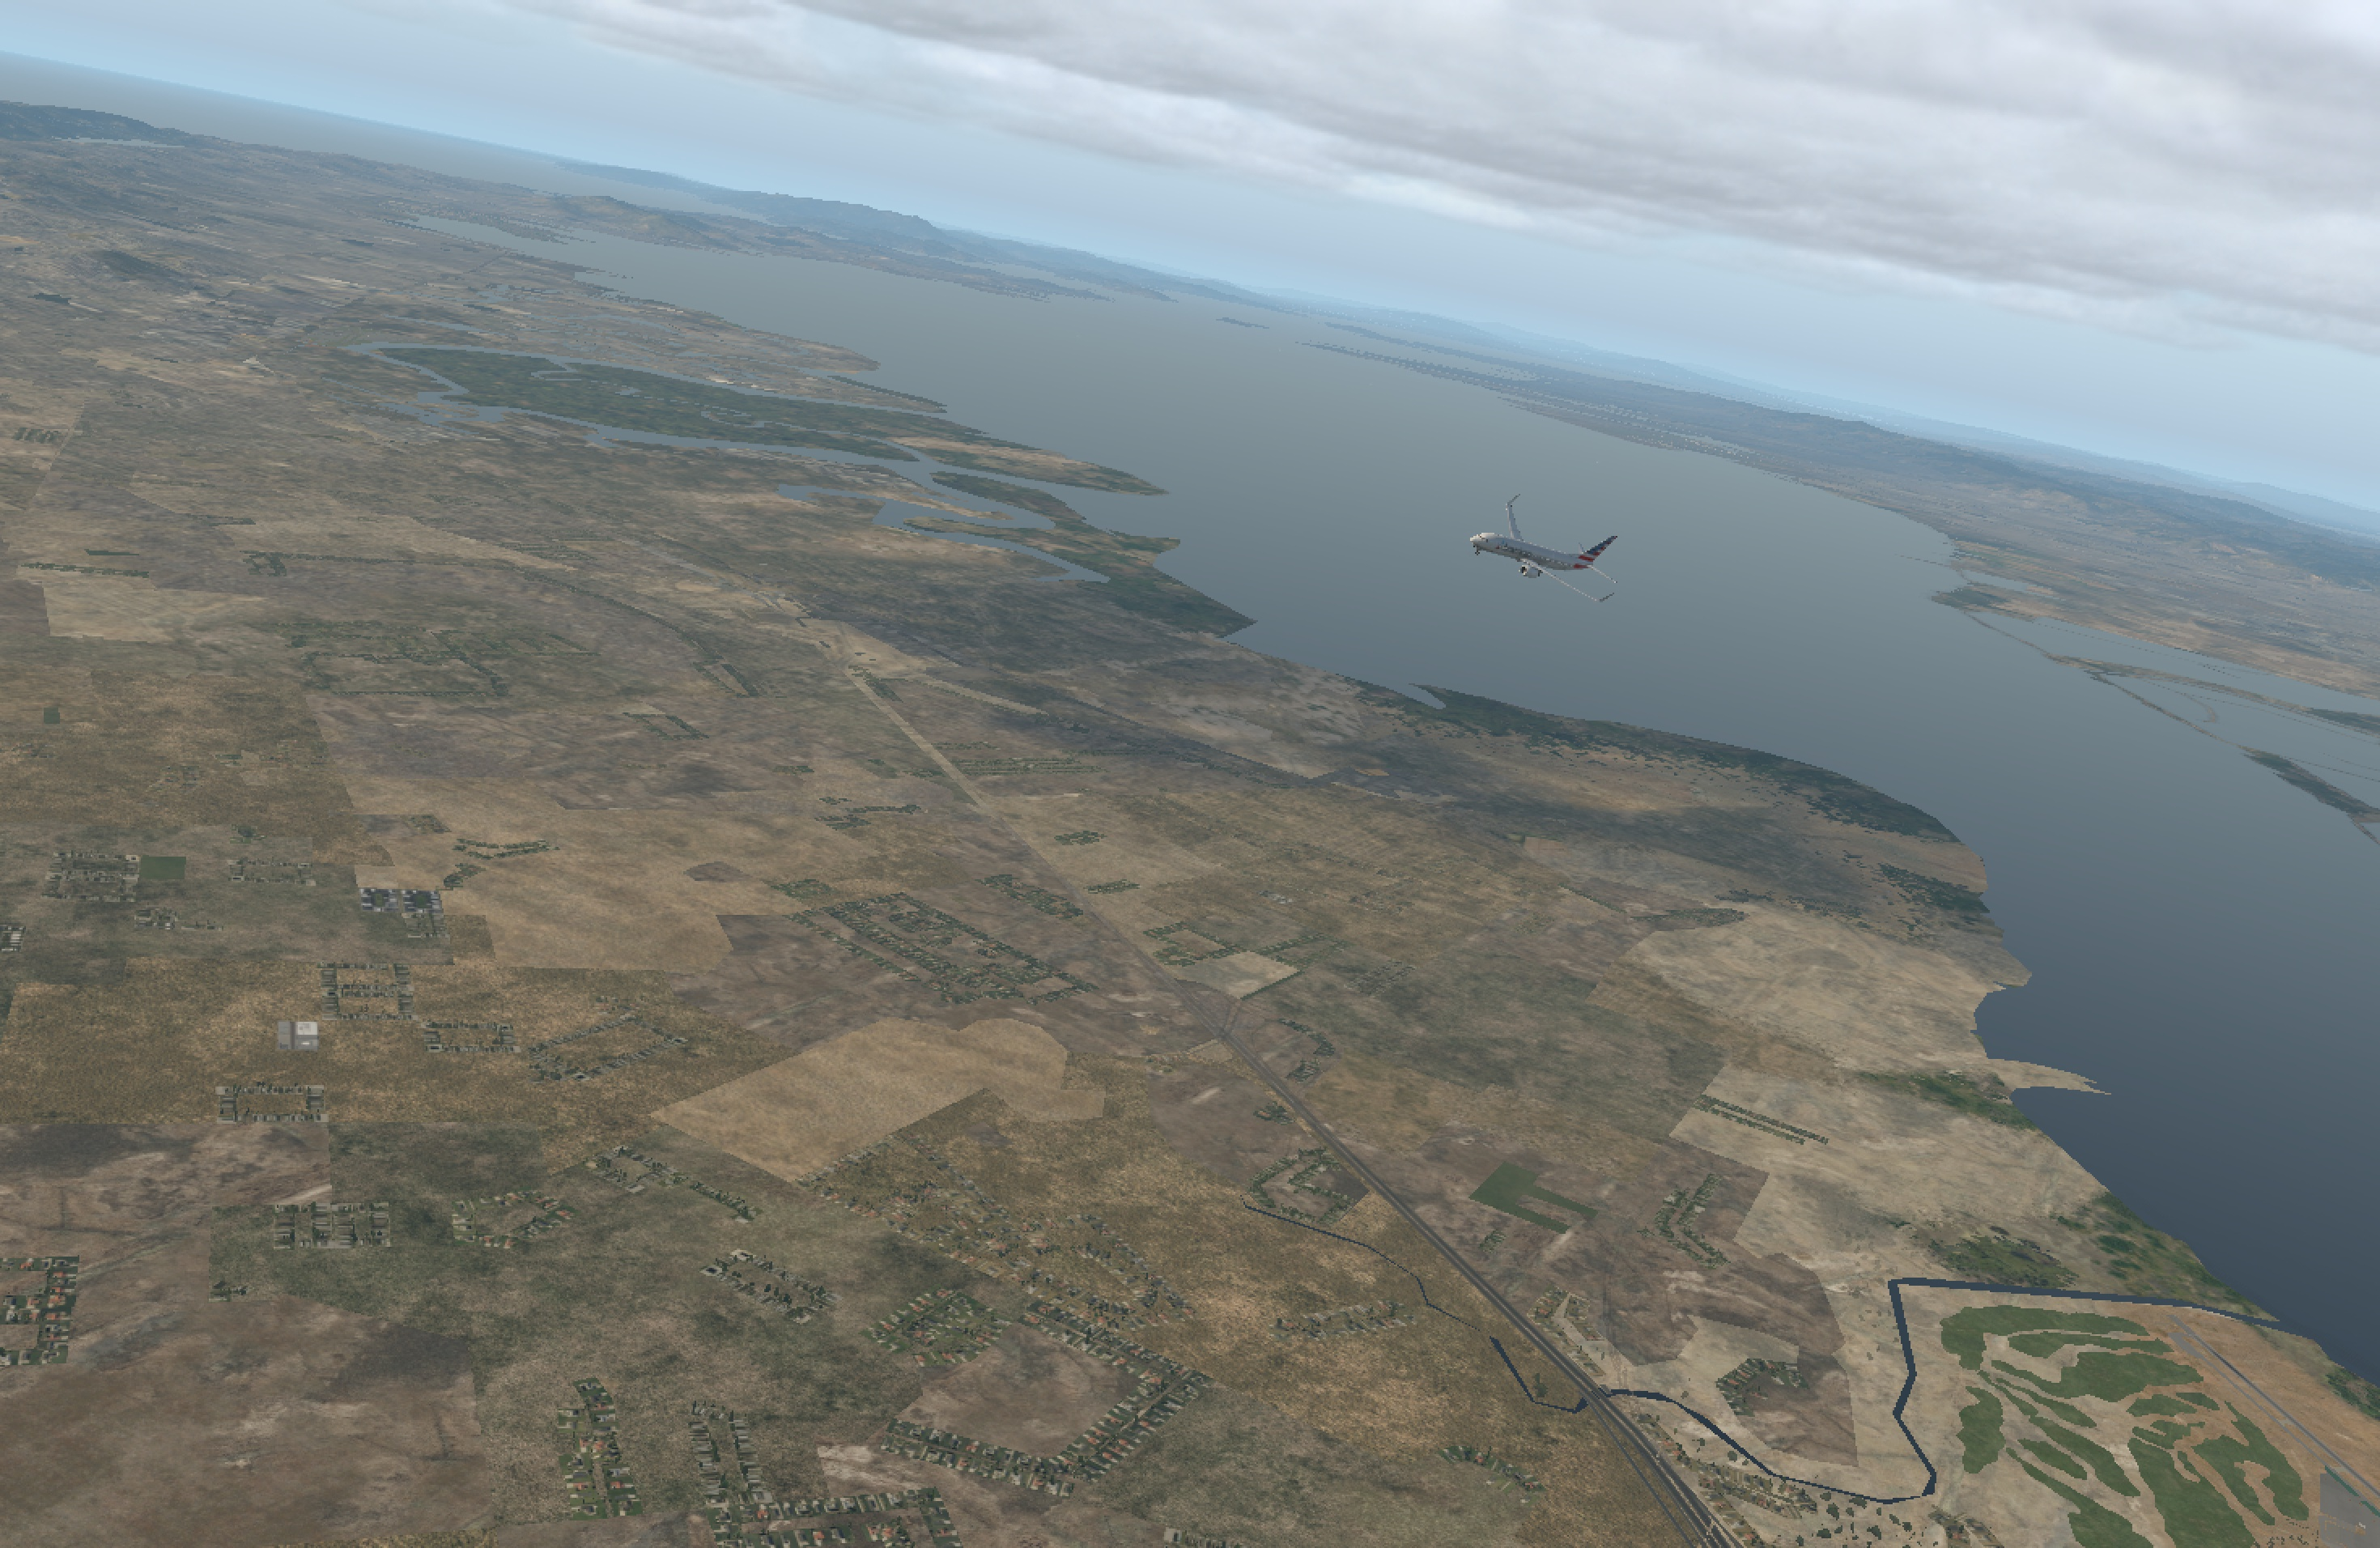aircraft: (1435, 521, 1622, 592)
